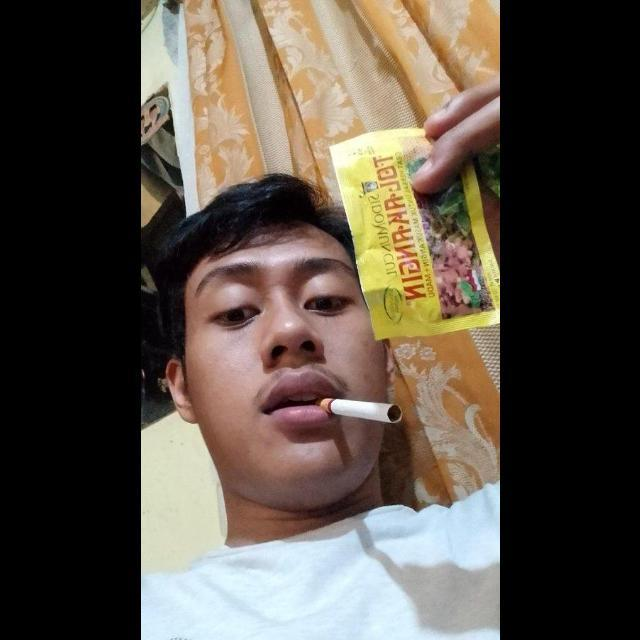rokok: (316, 394, 408, 432)
